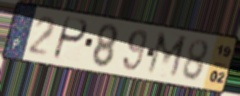2: (25, 16, 57, 59)
8: (89, 22, 120, 71), (180, 39, 211, 83)
9: (121, 28, 149, 74)
M: (144, 29, 190, 82)
P: (50, 15, 90, 63)
